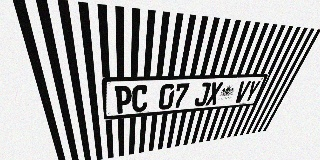0: (158, 84, 176, 110)
7: (172, 83, 190, 109)
C: (132, 85, 149, 112)
J: (193, 82, 211, 107)
P: (114, 85, 132, 114)
V: (233, 81, 251, 103)
X: (205, 82, 224, 106)
Y: (243, 80, 261, 102)
